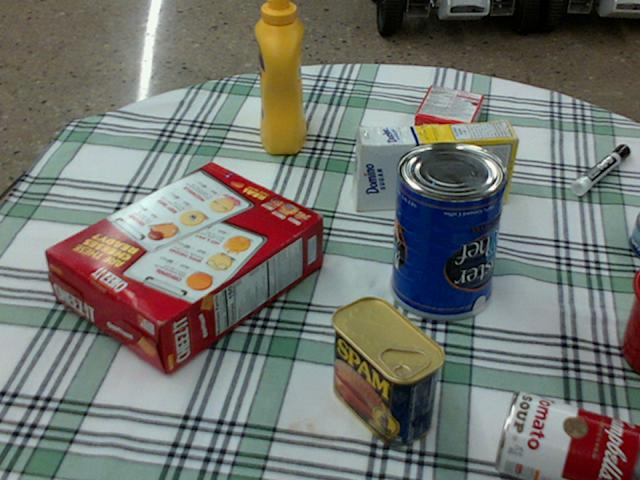cracker_box: (45, 163, 320, 373)
gelatin_box: (413, 85, 483, 143)
large_marker: (570, 144, 629, 194)
master_chef_can: (390, 141, 509, 318)
mug: (620, 268, 639, 374)
mustard_bottle: (254, 0, 304, 152)
potted_meat_can: (330, 296, 444, 445)
sugar_box: (352, 120, 517, 212)
tomato_soup_can: (496, 390, 639, 479)
tuna_fish_can: (630, 213, 639, 258)
